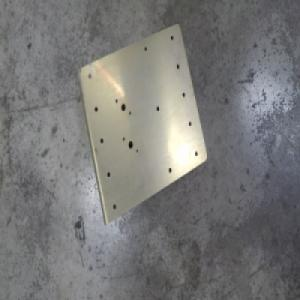MetalSheet: (75, 20, 207, 229)
